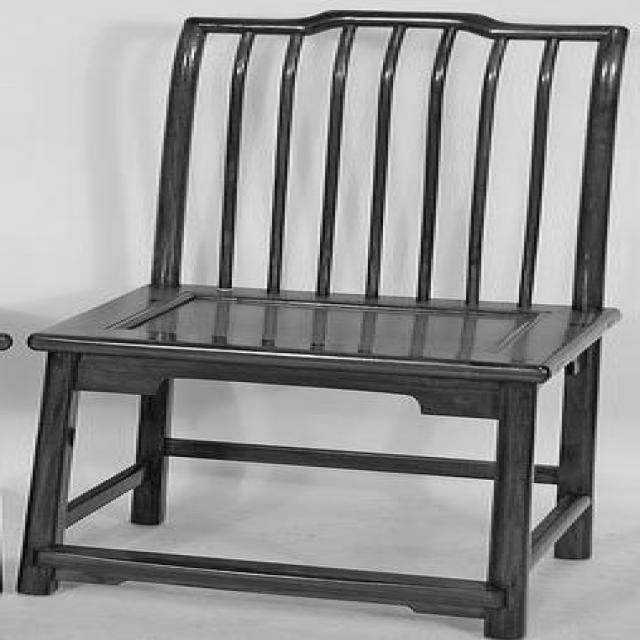chair: (26, 9, 630, 638)
